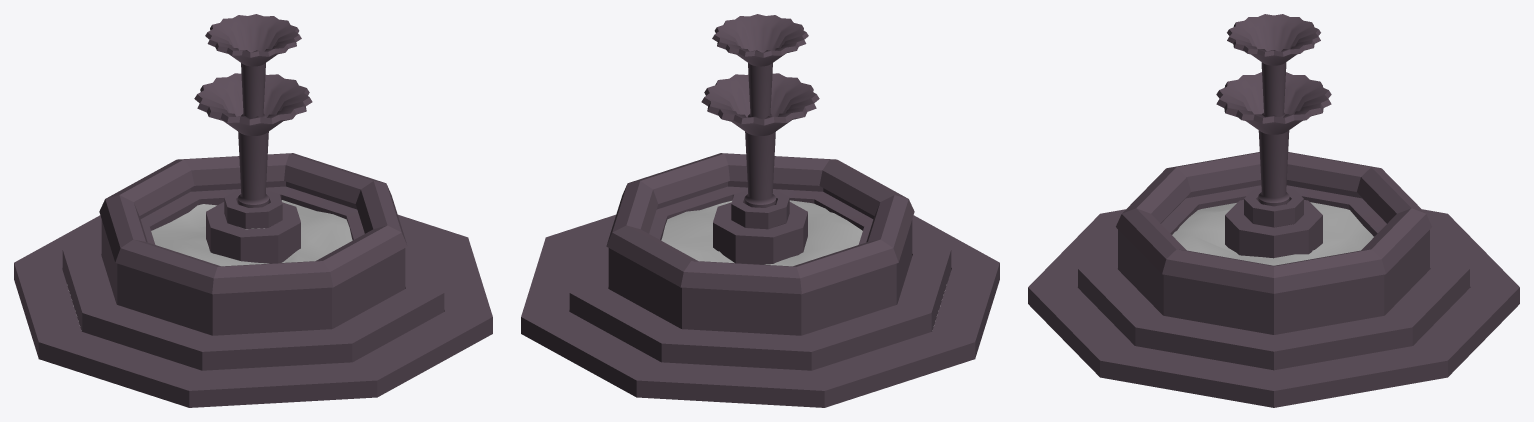
The model's file is Fontein.fbx.
The picture shows the model from 3 angles, left to right: view 1: azimuth 30°, elevation 25°; view 2: azimuth 150°, elevation 25°; view 3: azimuth 270°, elevation 25°; orthographic projection.
Visible parts, largest first — view 1: pPipe6, pDisc1; view 2: pPipe6, pDisc1; view 3: pPipe6, pDisc1.
Part boxes in pixels (<box>): pPipe6: <box>14,14,492,407</box>; pDisc1: <box>151,200,352,266</box>; pPipe6: <box>521,14,999,407</box>; pDisc1: <box>661,200,862,266</box>; pPipe6: <box>1028,14,1519,407</box>; pDisc1: <box>1172,202,1373,265</box>.
Bounding box in the file's own units: 17.98 × 10.94 × 17.98.
Materials: 2 (1 with a texture image).
